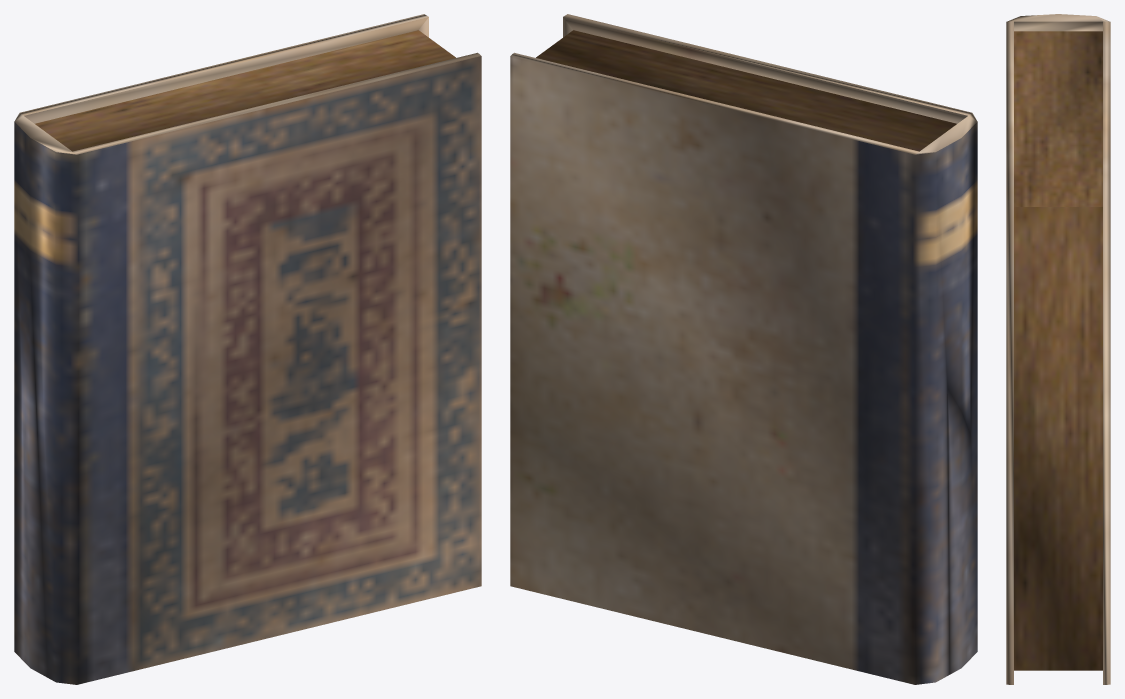
Rendered from MS_Book_6.fbx.
3 views of the same model, side by side, from view 1: azimuth 30°, elevation 25°; view 2: azimuth 150°, elevation 25°; view 3: azimuth 270°, elevation 25° (orthographic). The views are drawn at different scales.
Visible parts, largest first — view 1: MSH_Book_01; view 2: MSH_Book_01; view 3: MSH_Book_01.
Part boxes in pixels (x1,y1,x2,y2): MSH_Book_01: (14,14,481,684); MSH_Book_01: (510,14,977,684); MSH_Book_01: (1006,14,1110,684).
Bounding box in the file's own units: 20.87 × 25 × 4.89.
